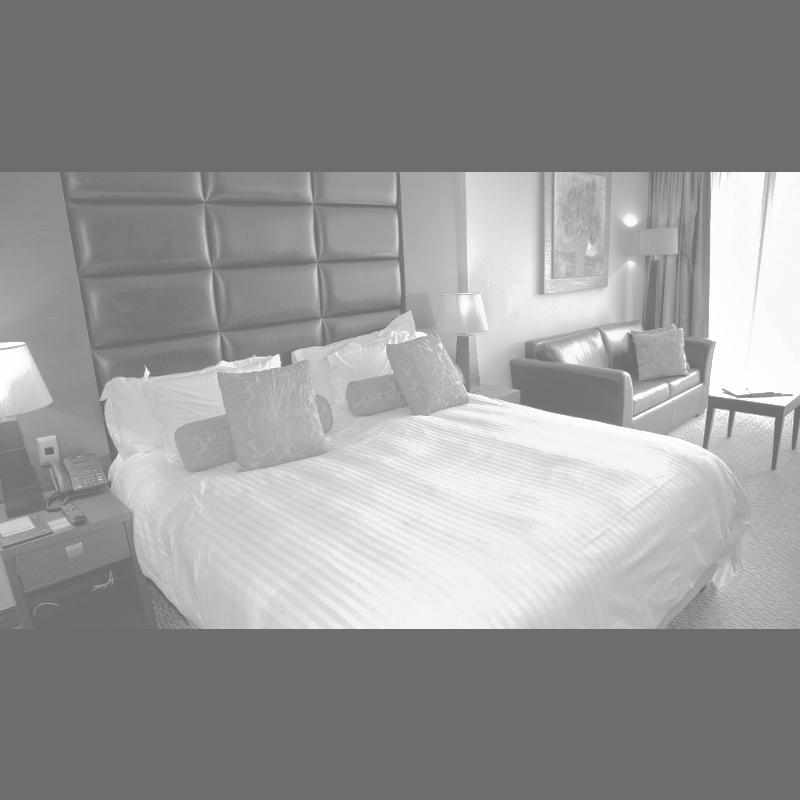pillow: (128, 350, 272, 460), (295, 310, 427, 411), (209, 362, 329, 472), (388, 332, 474, 414), (102, 368, 158, 460), (630, 322, 690, 382), (634, 320, 690, 378)
